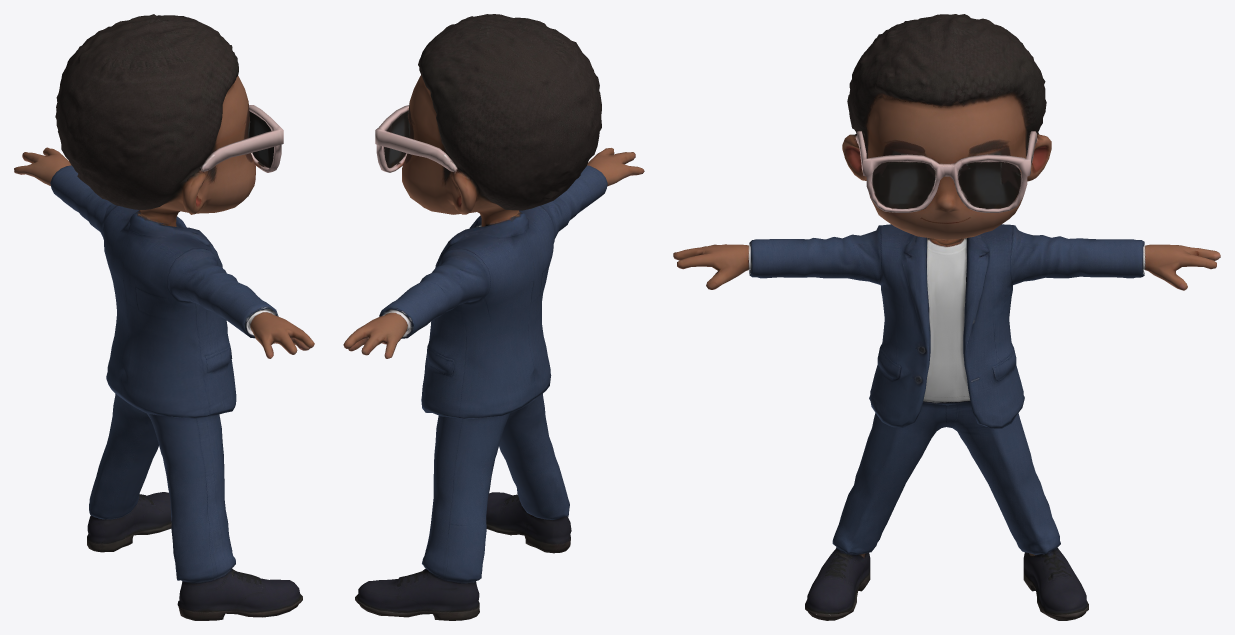
The model's file is neutral_avatar_2.glb.
3 views of the same model, side by side, from view 1: azimuth 30°, elevation 25°; view 2: azimuth 150°, elevation 25°; view 3: azimuth 270°, elevation 25° (orthographic).
Parts seen in each view (by area): view 1: tripo_node_b6f9f039-e5be-4557-bb38-81868ed4d31a; view 2: tripo_node_b6f9f039-e5be-4557-bb38-81868ed4d31a; view 3: tripo_node_b6f9f039-e5be-4557-bb38-81868ed4d31a.
Boxes of the visible parts, x1,y1,x2,y2 form: tripo_node_b6f9f039-e5be-4557-bb38-81868ed4d31a: (14, 14, 314, 620); tripo_node_b6f9f039-e5be-4557-bb38-81868ed4d31a: (343, 14, 644, 620); tripo_node_b6f9f039-e5be-4557-bb38-81868ed4d31a: (673, 14, 1220, 620).
Bounding box in the file's own units: 0.3457 × 0.998 × 0.8848.
Materials: 1 (1 with a texture image).
